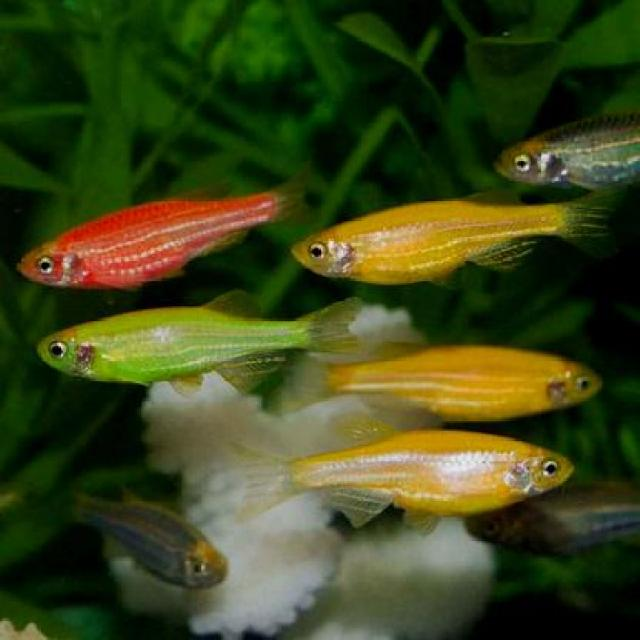ZebraFish: (292, 183, 622, 294), (14, 168, 306, 290), (281, 429, 574, 522), (34, 299, 354, 384), (328, 344, 608, 424)
